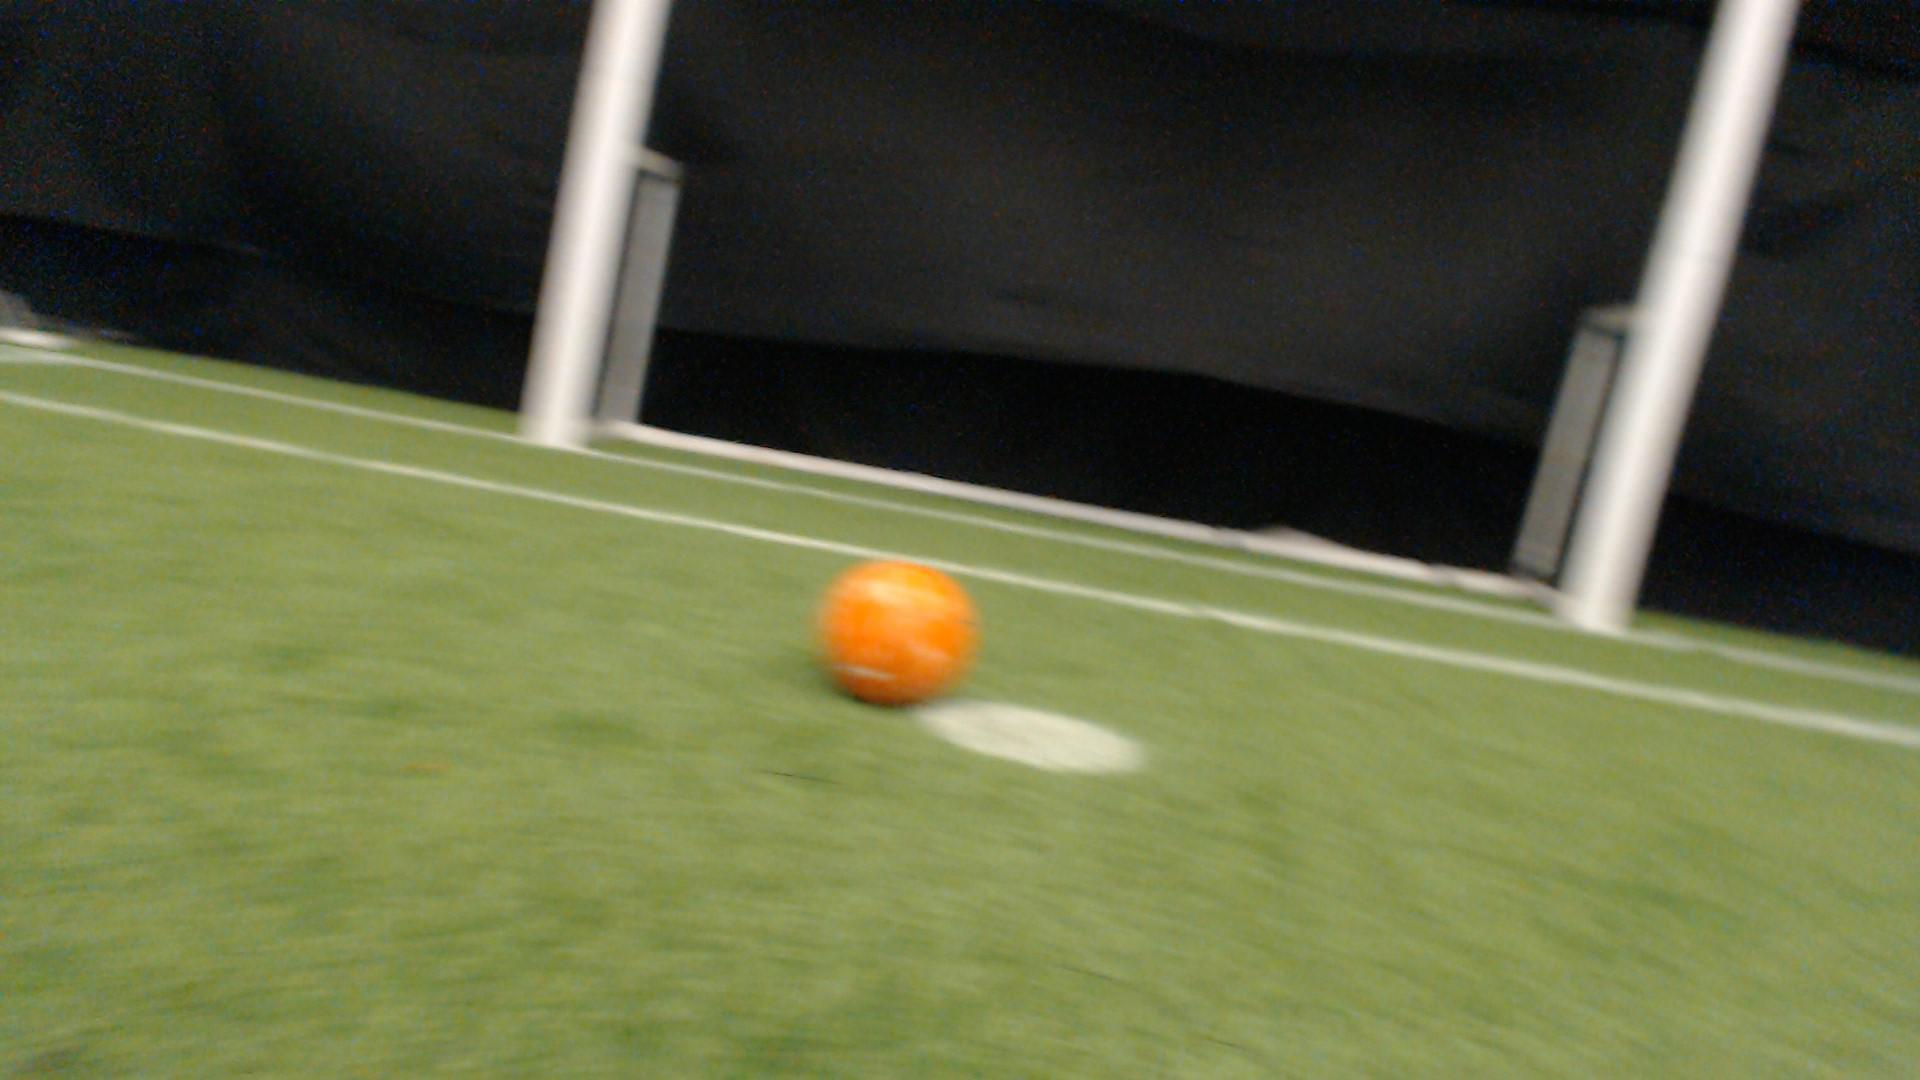bola: (800, 549, 985, 713)
